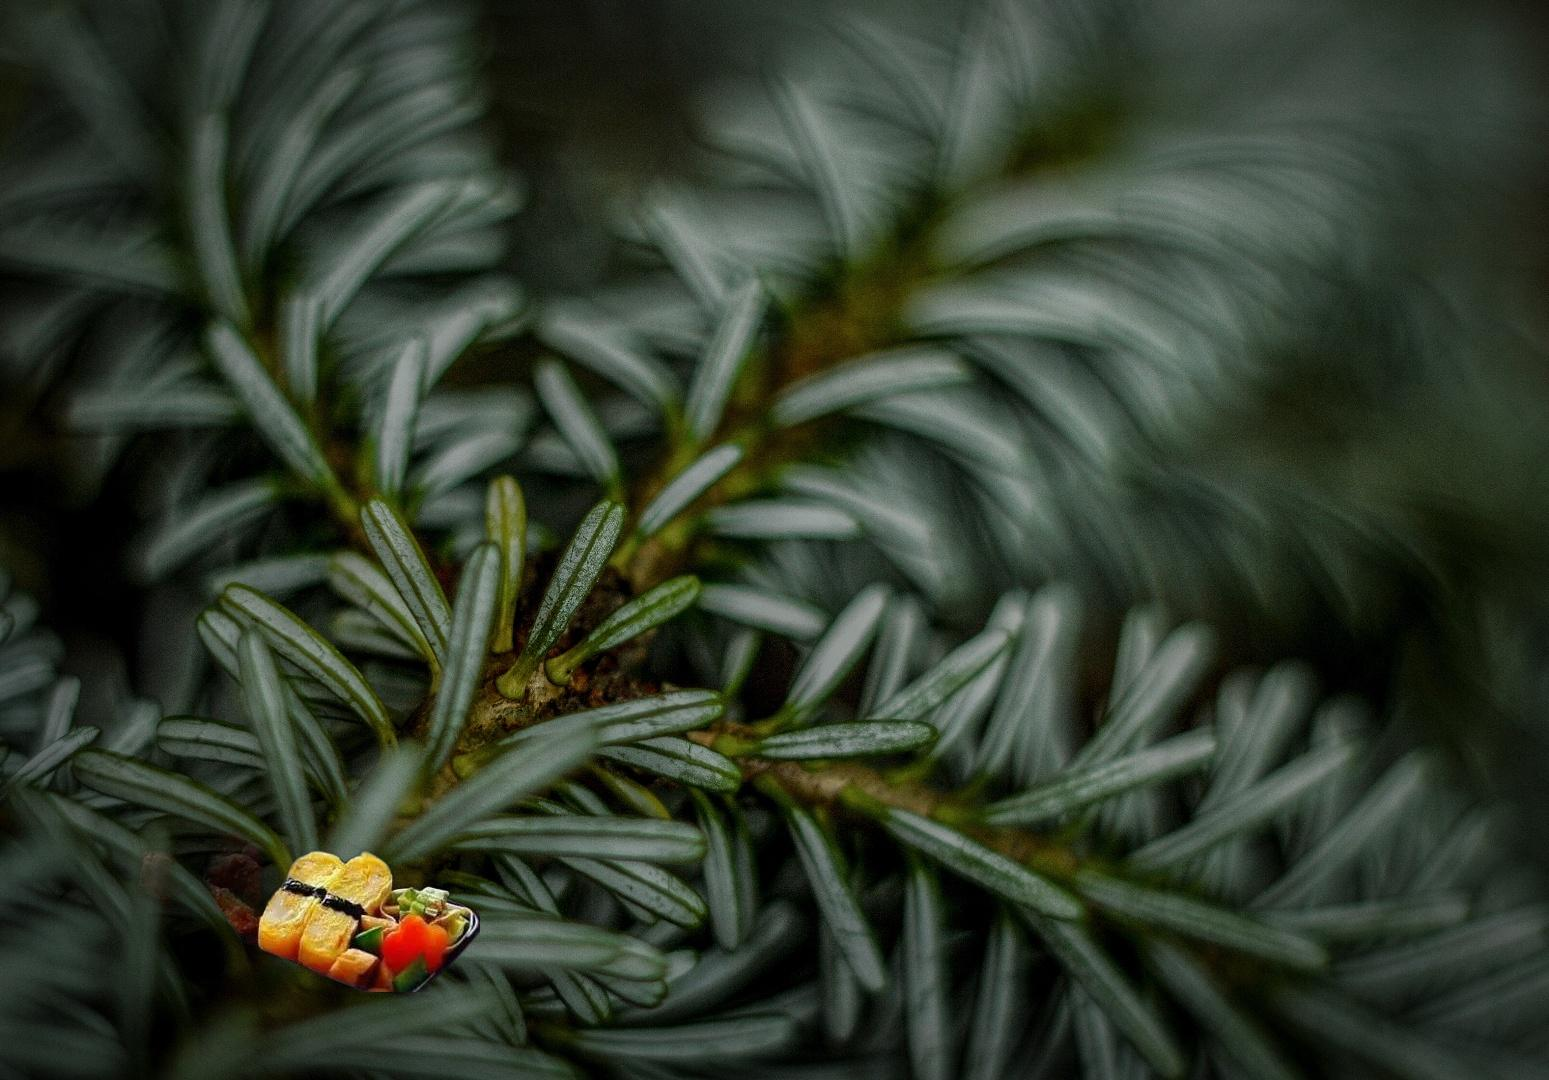biological: (80, 751, 480, 992)
